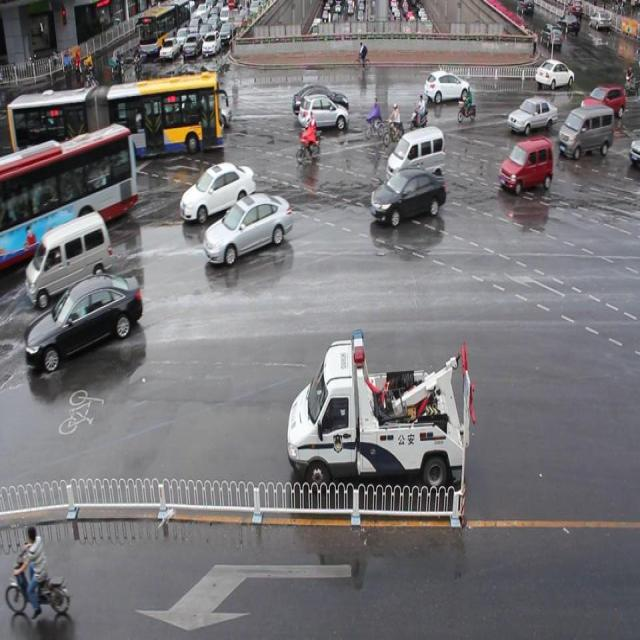bus: (285, 327, 473, 496)
car: (25, 274, 144, 366), (205, 194, 292, 261), (180, 164, 256, 218), (370, 170, 447, 222), (498, 136, 552, 193), (172, 89, 231, 130), (297, 94, 348, 136), (506, 95, 556, 133), (291, 84, 348, 115), (580, 82, 624, 119), (425, 69, 469, 102), (534, 58, 574, 89)
truck: (25, 212, 112, 308), (386, 127, 445, 182), (556, 105, 612, 156)
van: (1, 121, 137, 268), (9, 71, 221, 162)
